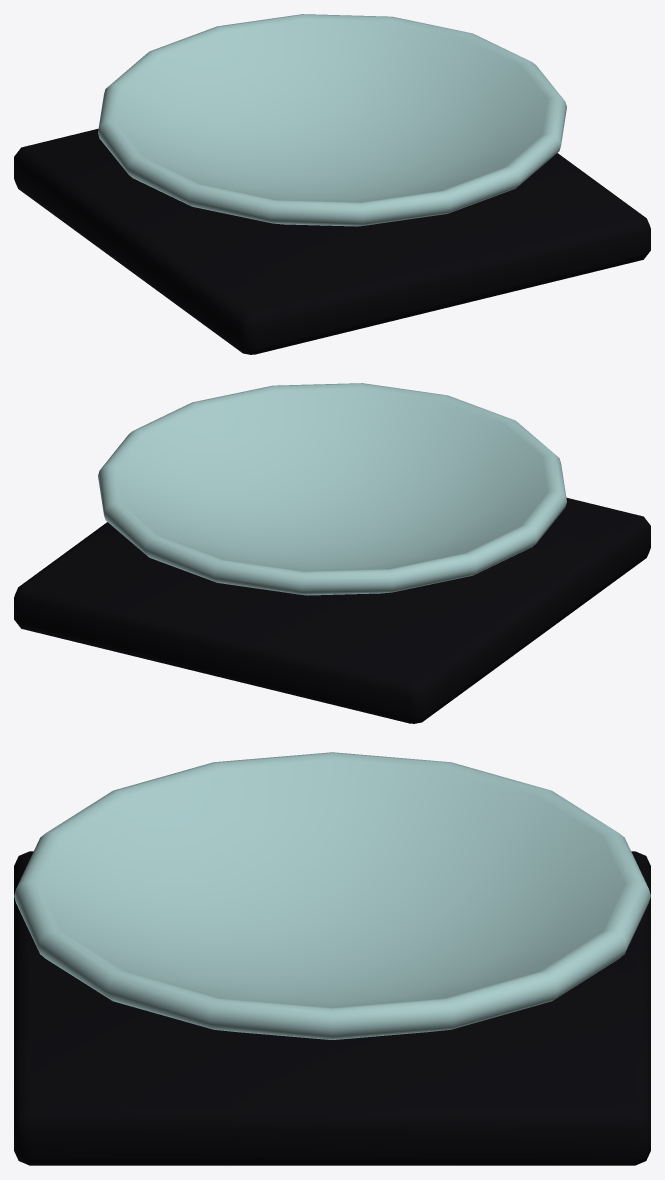
Rendered from LastLuna_Model_Station_Drying.fbx.
3 renders of one model, top to bottom at view 1: azimuth 30°, elevation 25°; view 2: azimuth 150°, elevation 25°; view 3: azimuth 270°, elevation 25°, orthographic. The views are drawn at different scales.
Parts seen in each view (by area): view 1: Watch_Glass001, Stand_Base_Small001; view 2: Watch_Glass001, Stand_Base_Small001; view 3: Watch_Glass001, Stand_Base_Small001.
Part boxes in pixels (left/top/right/bottom): Watch_Glass001: left=98, top=14, right=566, bottom=226; Stand_Base_Small001: left=14, top=128, right=650, bottom=354; Watch_Glass001: left=98, top=383, right=566, bottom=595; Stand_Base_Small001: left=14, top=497, right=650, bottom=723; Watch_Glass001: left=14, top=752, right=650, bottom=1039; Stand_Base_Small001: left=14, top=851, right=650, bottom=1165.
Bounding box in the file's own units: 100 × 26.98 × 100.
